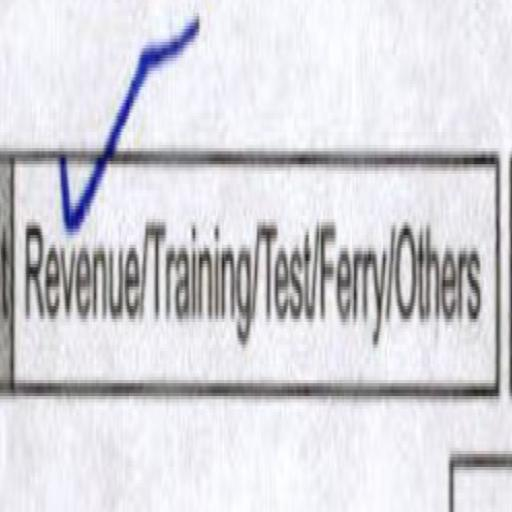check: (10, 52, 144, 421)
